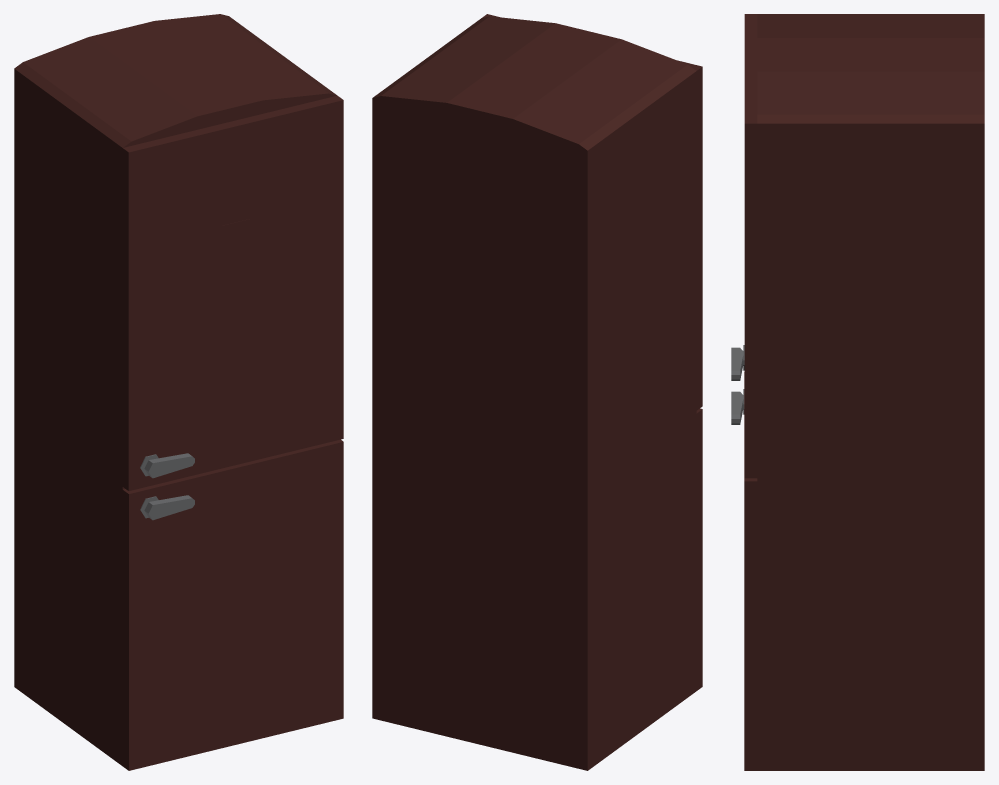
Rendered from oldrefrigerator_01_C.gltf.
3 renders of one model, left to right at view 1: azimuth 30°, elevation 25°; view 2: azimuth 150°, elevation 25°; view 3: azimuth 270°, elevation 25°, orthographic. The views are drawn at different scales.
Parts seen in each view (by area): view 1: oldrefrigerator_01_C, Dooroldrefrigeratortop_01_C, Dooroldrefrigerator top_01_C; view 2: oldrefrigerator_01_C, Dooroldrefrigeratortop_01_C, Dooroldrefrigerator top_01_C; view 3: oldrefrigerator_01_C, Dooroldrefrigeratortop_01_C, Dooroldrefrigerator top_01_C.
Part boxes in pixels (x1,y1,x2,y2): oldrefrigerator_01_C: (14, 14, 336, 765); Dooroldrefrigeratortop_01_C: (122, 95, 343, 490); Dooroldrefrigerator top_01_C: (122, 439, 343, 770); oldrefrigerator_01_C: (372, 16, 696, 770); Dooroldrefrigeratortop_01_C: (481, 14, 702, 410); Dooroldrefrigerator top_01_C: (696, 408, 702, 690); oldrefrigerator_01_C: (757, 14, 984, 770); Dooroldrefrigeratortop_01_C: (731, 14, 757, 478); Dooroldrefrigerator top_01_C: (731, 372, 757, 770).
Size of the model in its own units: 0.8 by 2.25 by 0.7804.
1 material, 1 textured.
